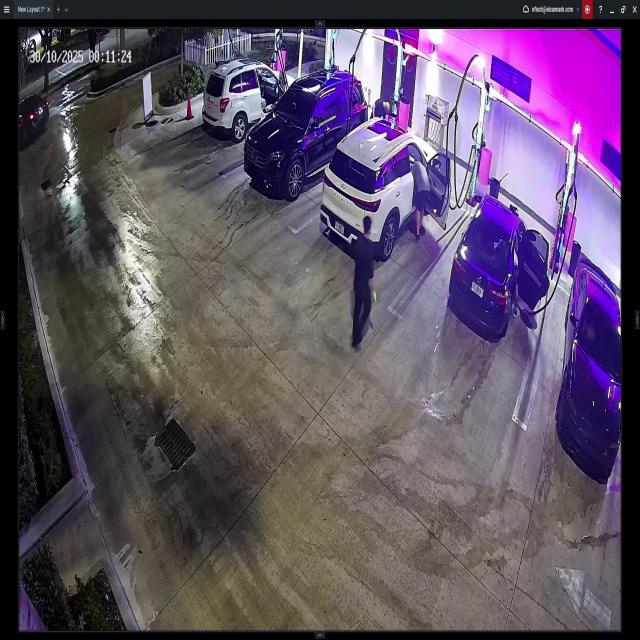Car: (321, 114, 447, 269), (240, 67, 368, 189), (446, 194, 550, 340), (561, 258, 622, 472), (201, 58, 298, 137), (16, 93, 47, 147)
